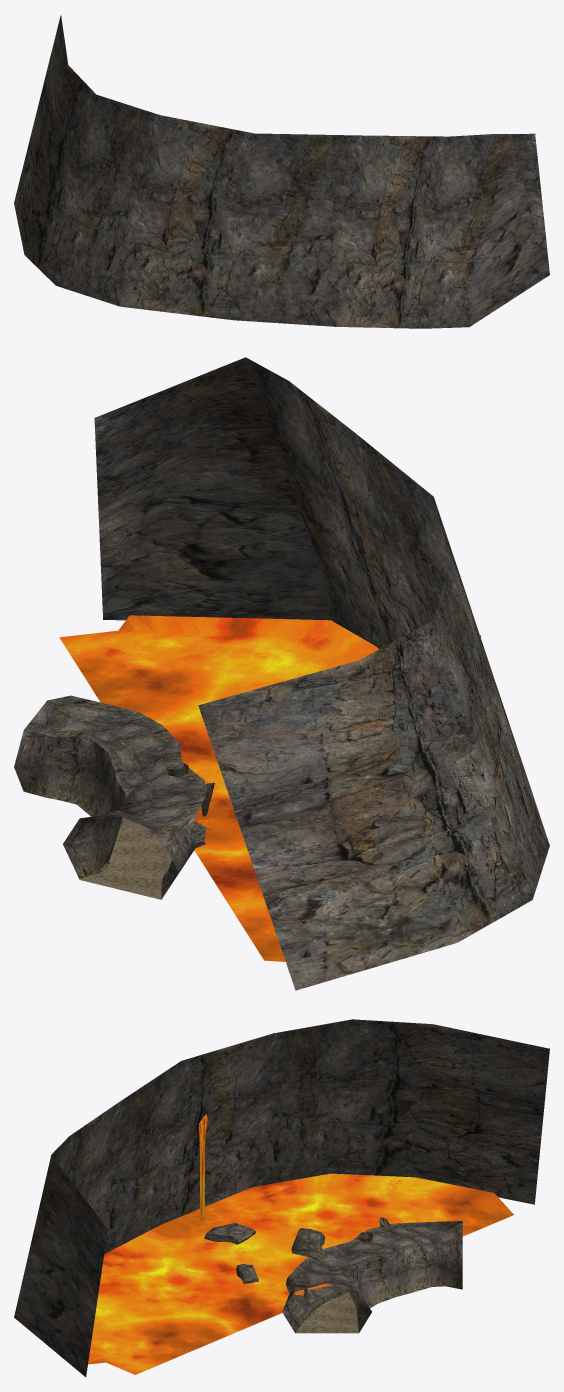
Rendered from pir_m_are_cav_curveWideLeftVista_lightingTest.fbx.
3 views of the same model, one above another, from view 1: azimuth 30°, elevation 25°; view 2: azimuth 150°, elevation 25°; view 3: azimuth 270°, elevation 25° (orthographic). The views are drawn at different scales.
Visible parts, largest first — view 1: standardCurveWide_back_wall; view 2: standardCurveWide_back_wall, pPlane1, standardCurveWide_left_wall, standardCurveWide_left_floor; view 3: standardCurveWide_back_wall, pPlane1, standardCurveWide_left_wall, standardCurveWide_left_floor, single_rock_lod_low2, single_rock_lod_low1, lava_flow.
Boxes of the visible parts, box(x1,y1,x2,y2) form: standardCurveWide_back_wall: box(14, 15, 549, 328); standardCurveWide_back_wall: box(94, 357, 549, 990); pPlane1: box(59, 615, 379, 961); standardCurveWide_left_wall: box(14, 695, 214, 899); standardCurveWide_left_floor: box(80, 817, 171, 899); standardCurveWide_back_wall: box(14, 1019, 549, 1376); pPlane1: box(88, 1173, 513, 1374); standardCurveWide_left_wall: box(282, 1217, 462, 1332); standardCurveWide_left_floor: box(295, 1293, 358, 1333); single_rock_lod_low2: box(204, 1223, 255, 1244); single_rock_lod_low1: box(291, 1228, 324, 1256); lava_flow: box(198, 1114, 207, 1221).
Size of the model in its own units: 53389 by 22551 by 59406.
Materials: 4 (4 with a texture image).
